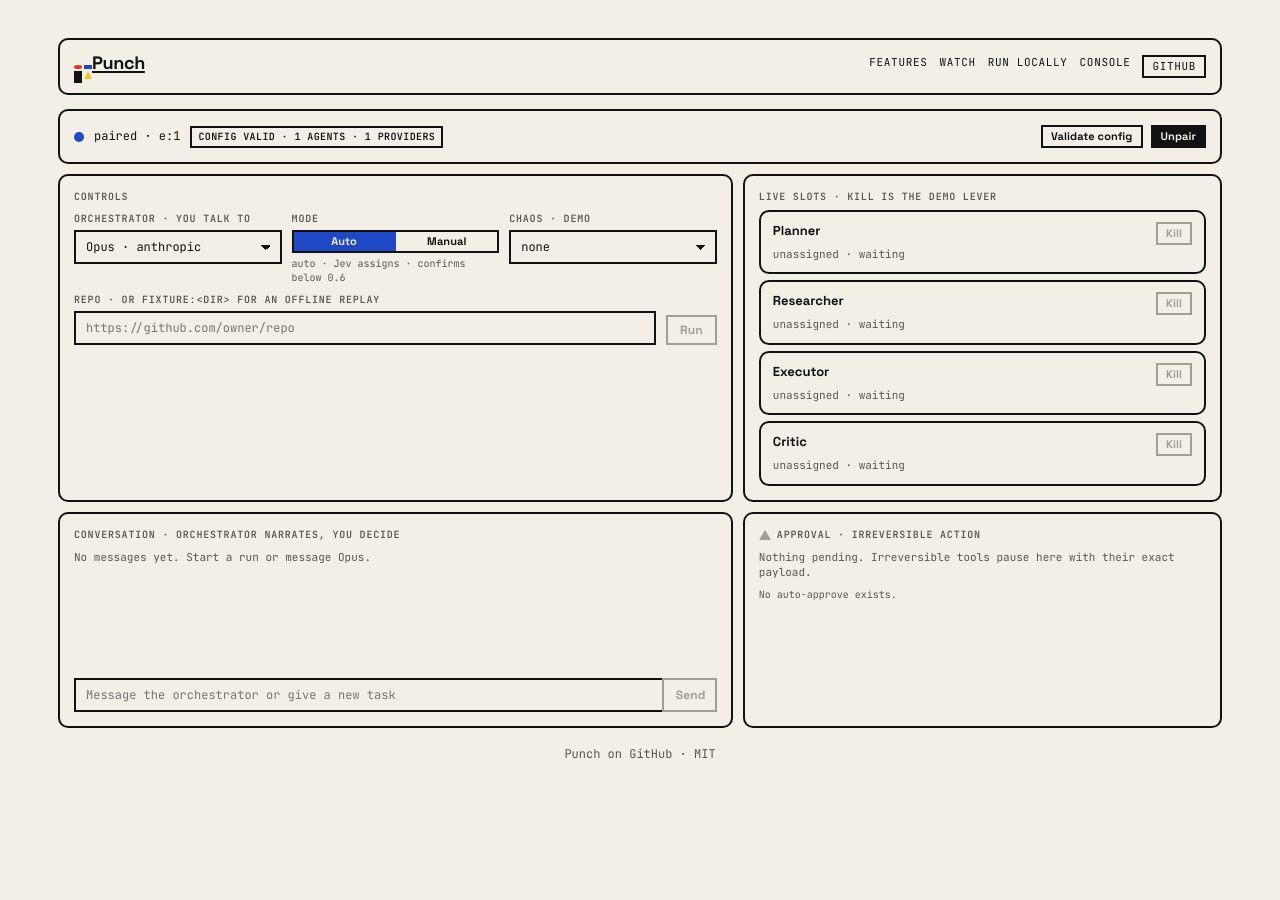
Test: console page › restores a stored pairing, shows the config chip, and degrades when sessions are missing
Expected: the text with test id "config-chip" reads "config valid · 1 agents · 1 providers", x1=190 y1=126 x2=443 y2=148
Expected: the element with test id "controls-tile" is shown, x1=58 y1=174 x2=733 y2=502
Step 1. Type "hello" into the field labelled "Message" → {"x": 368, "y": 695}, box x1=74 y1=678 x2=662 y2=712
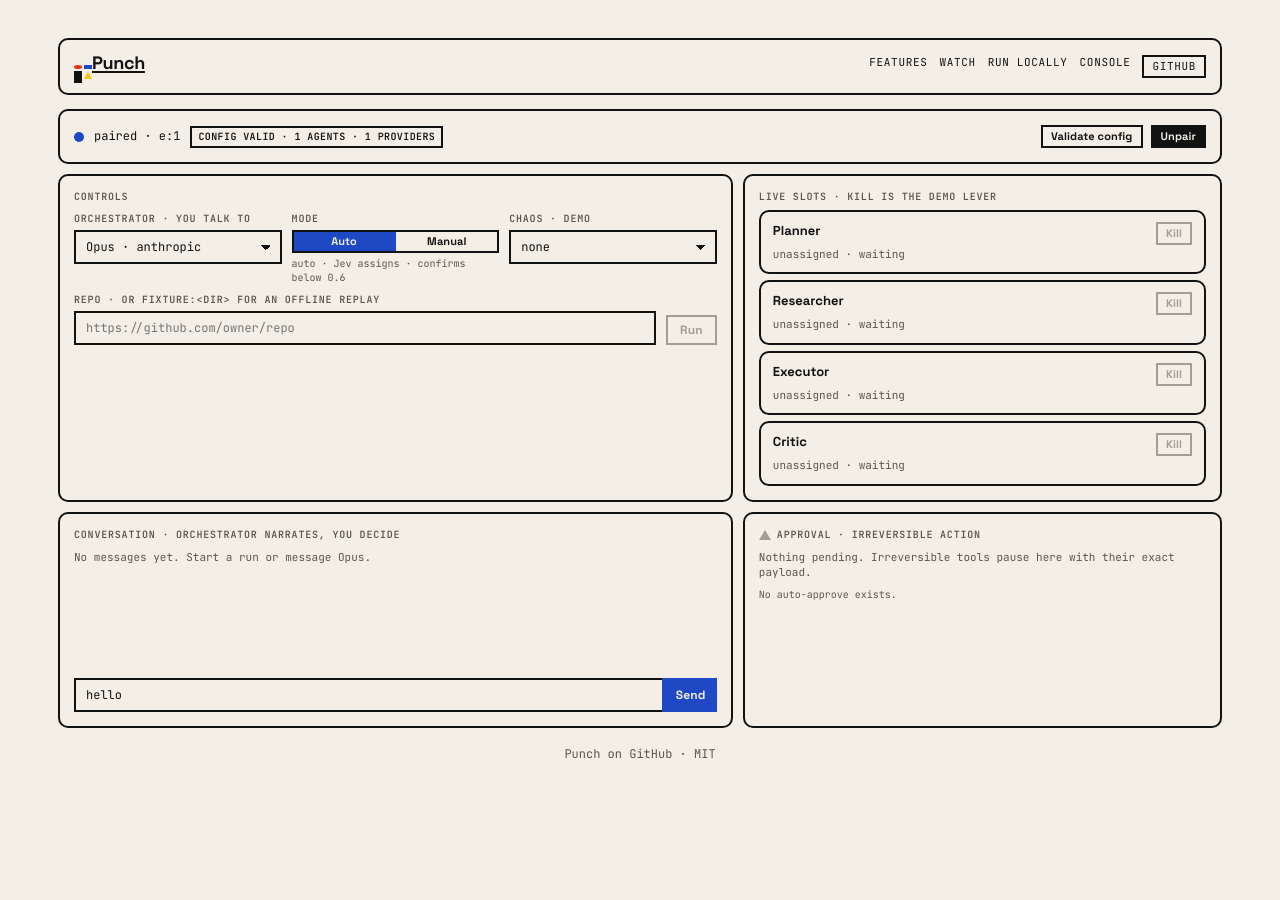
Step 2. Click the button "Send" → {"x": 689, "y": 695}, box x1=662 y1=678 x2=717 y2=712
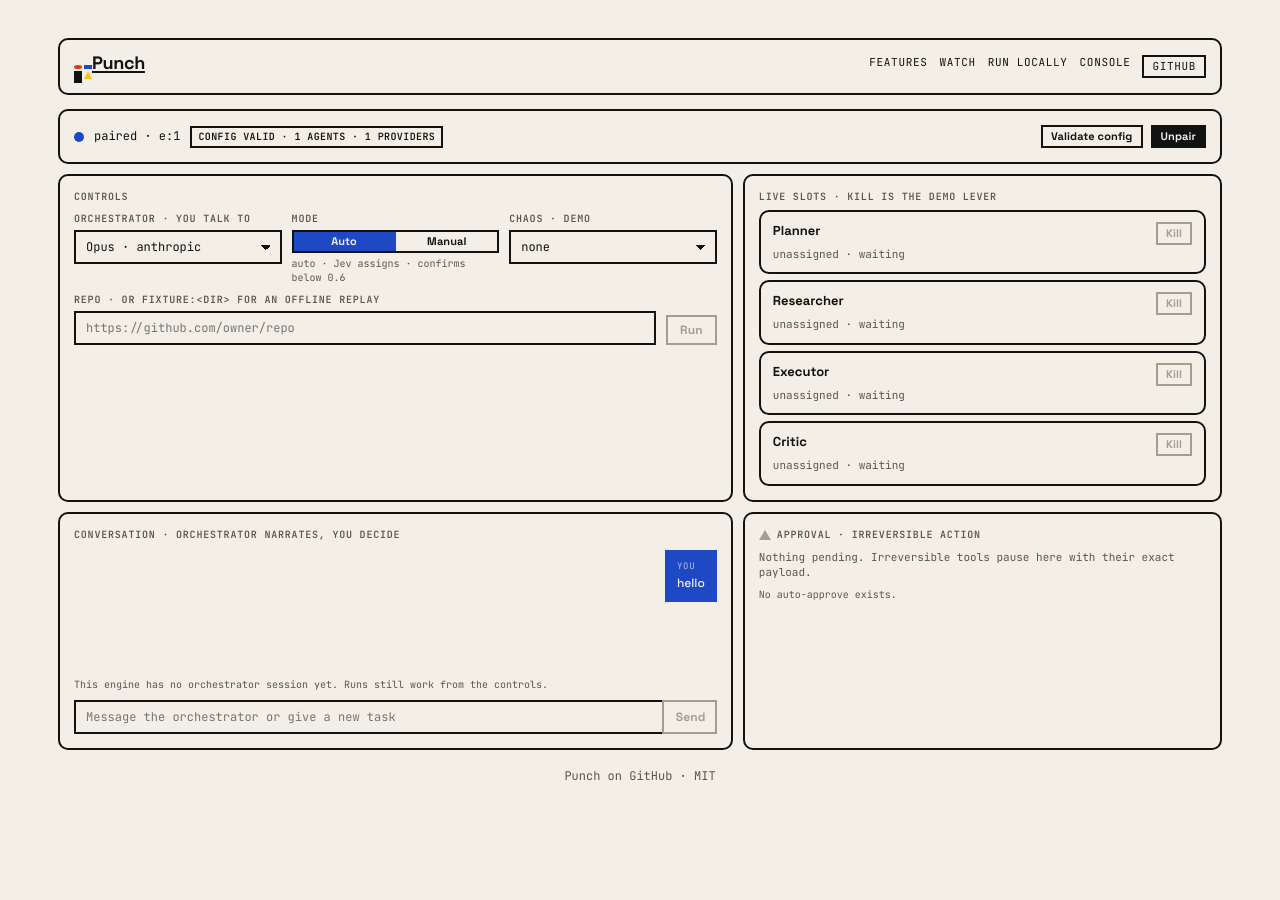
Expected: the text with test id "session-note" shows "no orchestrator session yet", x1=74 y1=678 x2=548 y2=691
Expected: the element named "conversation" shows "hello", x1=677 y1=575 x2=705 y2=591
